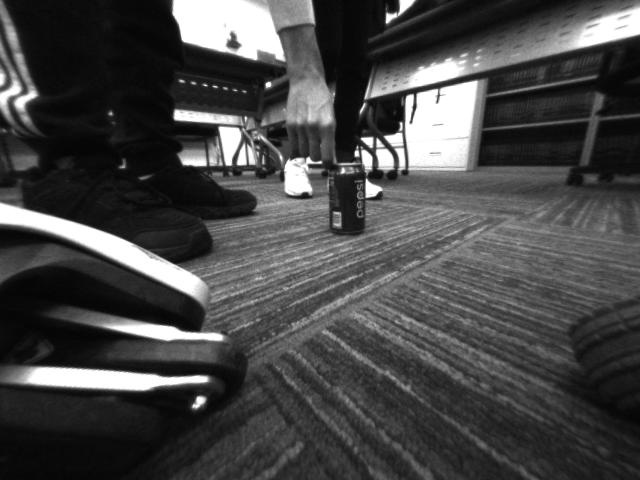can: (328, 157, 369, 237)
